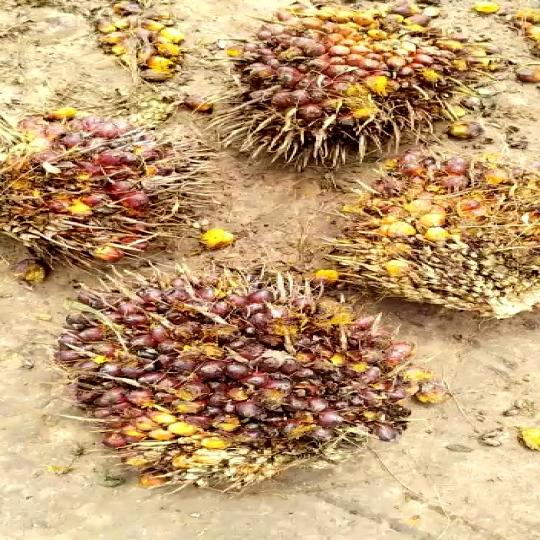masak: (50, 287, 491, 480), (203, 0, 500, 181), (0, 103, 221, 284), (308, 149, 540, 316)
